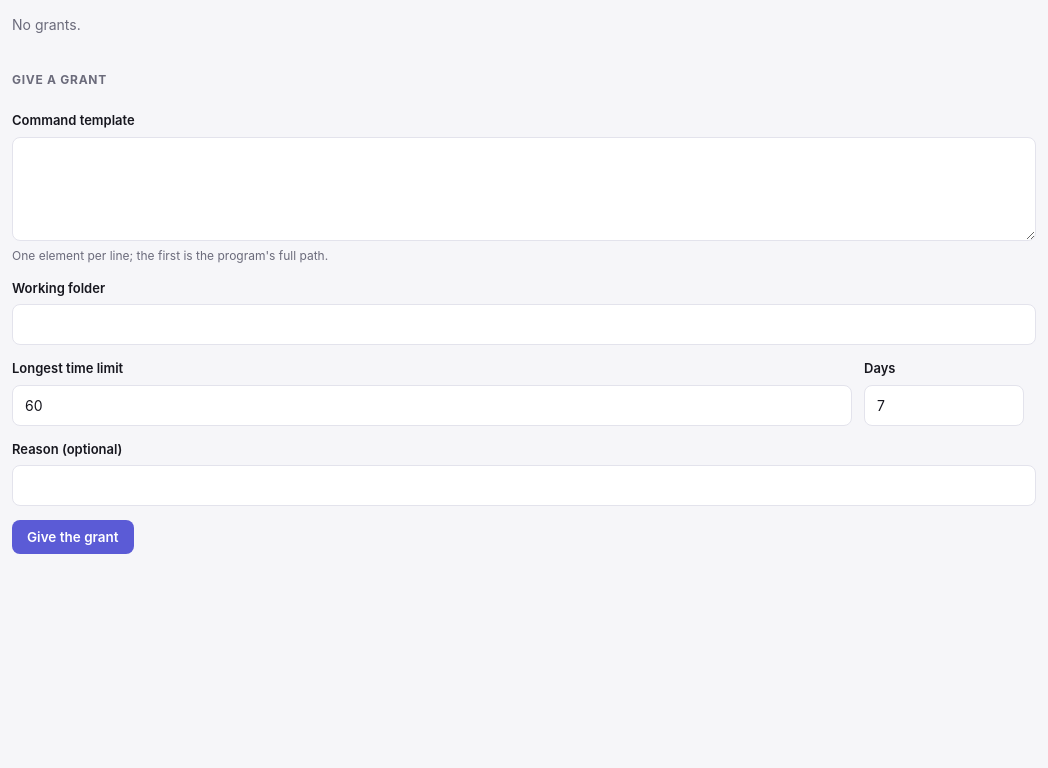
the grant form › refuses a time limit of 0 as out of range
This screenshot has width=1048, height=768.
Type "/bin/true" into the text box at (524,188), box [12, 136, 1036, 240]
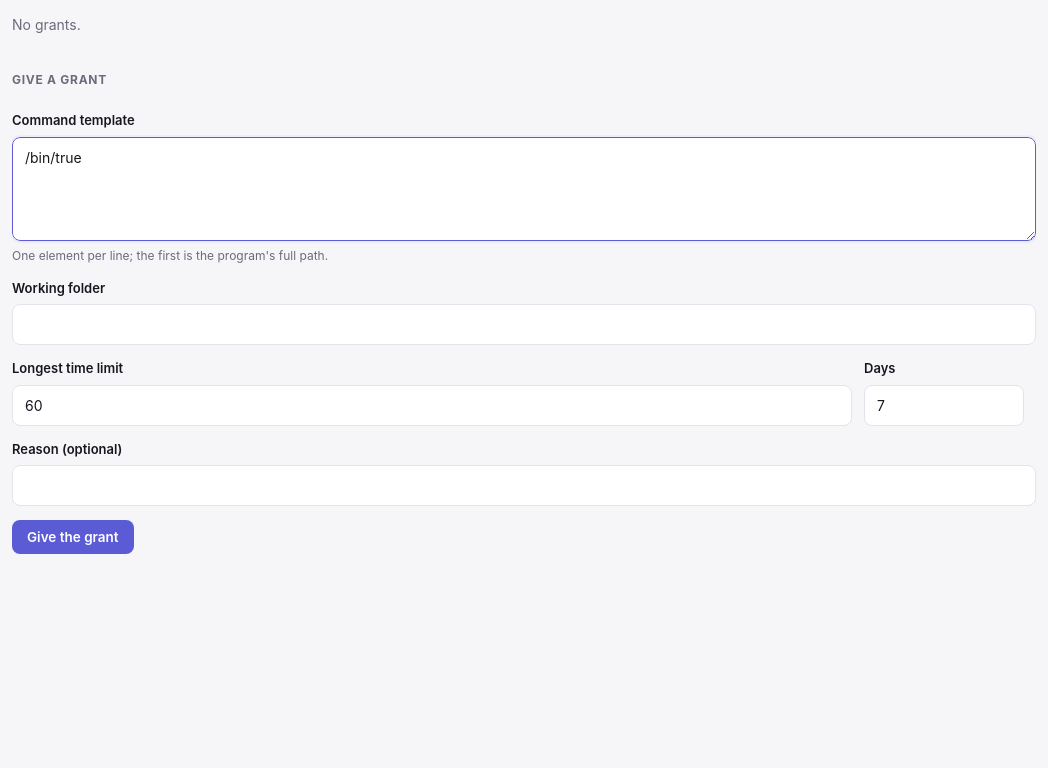
Type "/x" into the field labelled "Working folder" at (524,324), box [12, 304, 1036, 345]
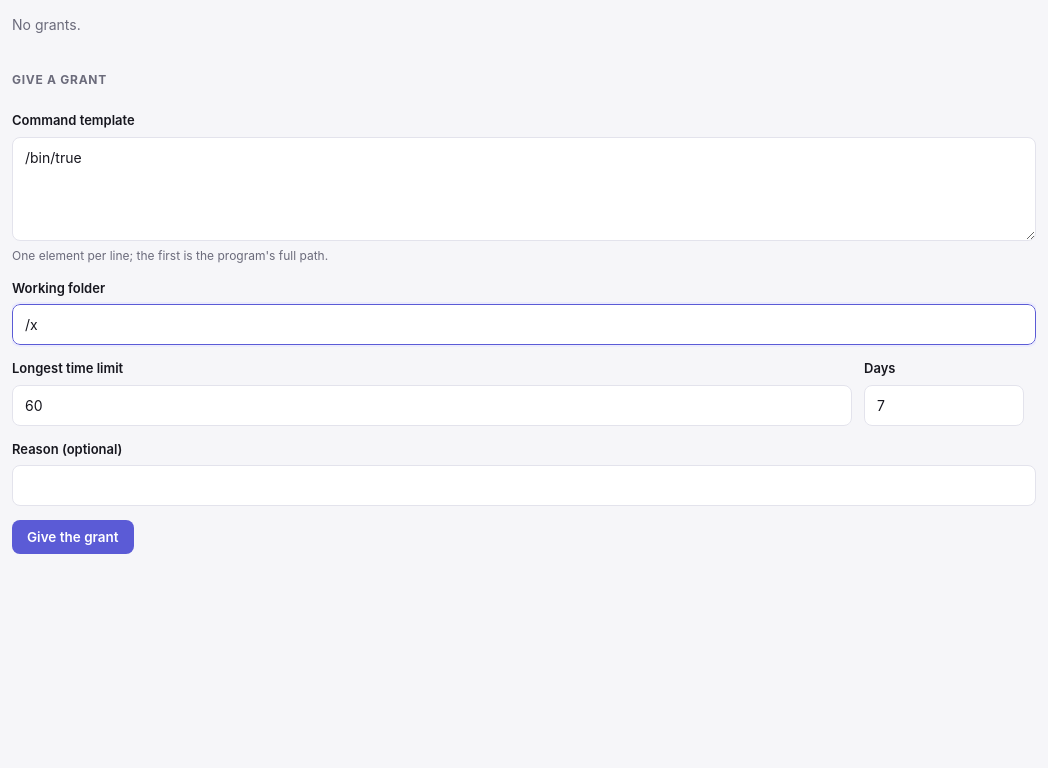
Replace the text in the number field labelled "Longest time limit" with "0" at (432,405), box [12, 384, 852, 426]
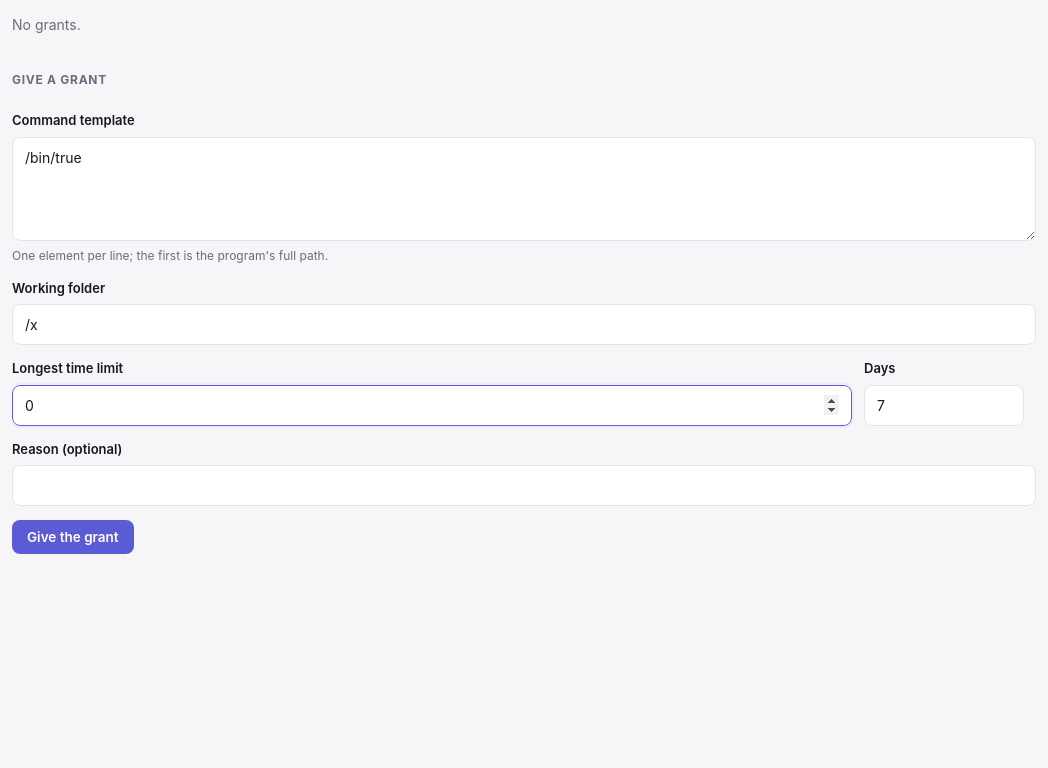
Click the button "Give the grant" at (73,537), box [12, 520, 134, 554]
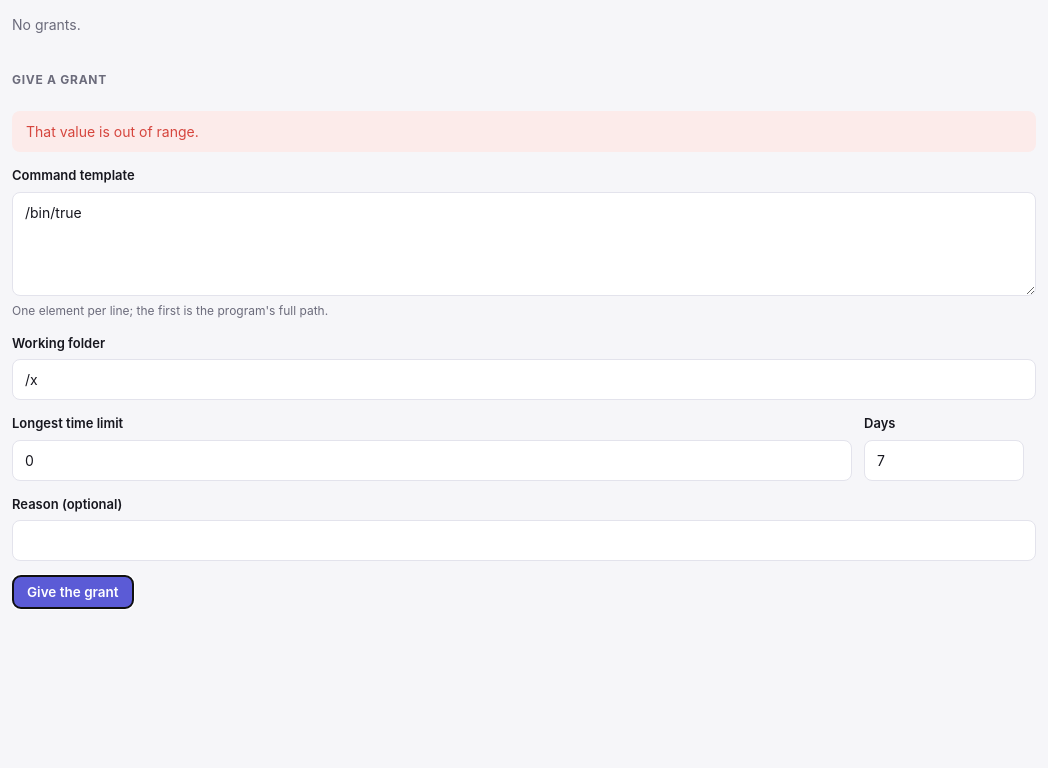
Now the text "That value is out of range." is shown, box [12, 111, 1036, 152]
